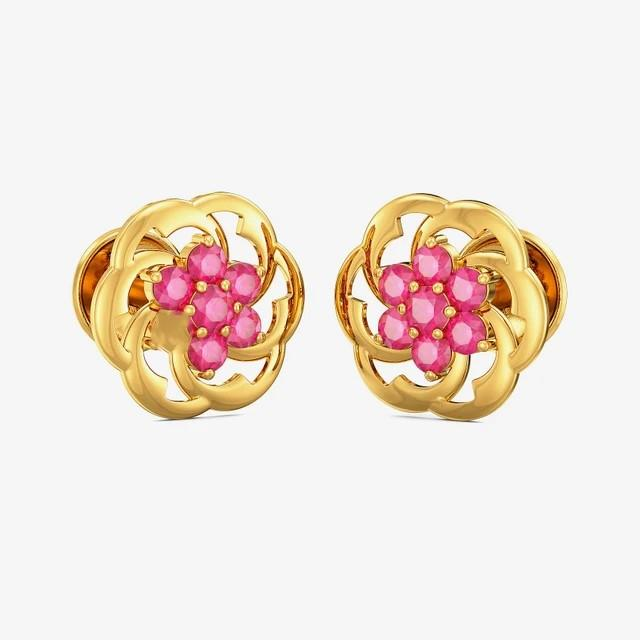missing gem: (150, 312, 192, 352)
